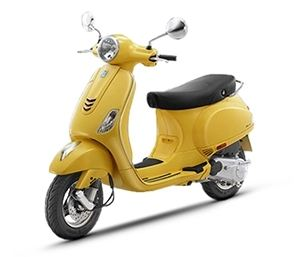bike: (45, 10, 253, 241)
